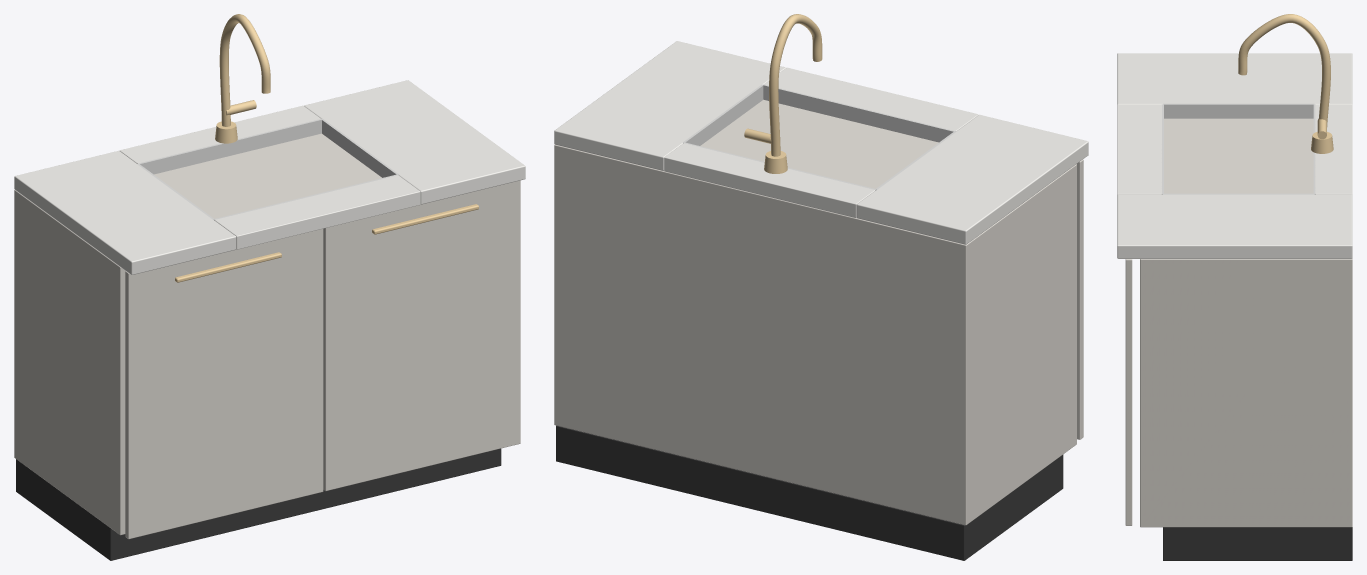
Rendered from kitchen_sink_120.gltf.
3 renders of one model, left to right at view 1: azimuth 30°, elevation 25°; view 2: azimuth 150°, elevation 25°; view 3: azimuth 270°, elevation 25°, orthographic. The views are drawn at different scales.
Visible parts, largest first — view 1: lacquer_greige, quartz_white, black_metal, brushed_steel, brushed_brass; view 2: lacquer_greige, quartz_white, black_metal, brushed_steel, brushed_brass; view 3: lacquer_greige, quartz_white, black_metal, brushed_steel, brushed_brass.
Boxes of the visible parts, x1,y1,x2,y2 form: lacquer_greige: [14, 133, 520, 539]; quartz_white: [14, 80, 525, 274]; black_metal: [16, 448, 501, 560]; brushed_steel: [137, 119, 398, 220]; brushed_brass: [175, 14, 478, 282]; lacquer_greige: [554, 99, 1083, 525]; quartz_white: [554, 41, 1088, 244]; black_metal: [556, 425, 1063, 560]; brushed_steel: [683, 84, 955, 190]; brushed_brass: [744, 14, 822, 173]; lacquer_greige: [1125, 118, 1352, 527]; quartz_white: [1117, 53, 1352, 258]; black_metal: [1163, 527, 1352, 560]; brushed_steel: [1162, 103, 1315, 194]; brushed_brass: [1238, 14, 1333, 153].
Size of the model in its own units: 1.2 by 1.31 by 0.62.
